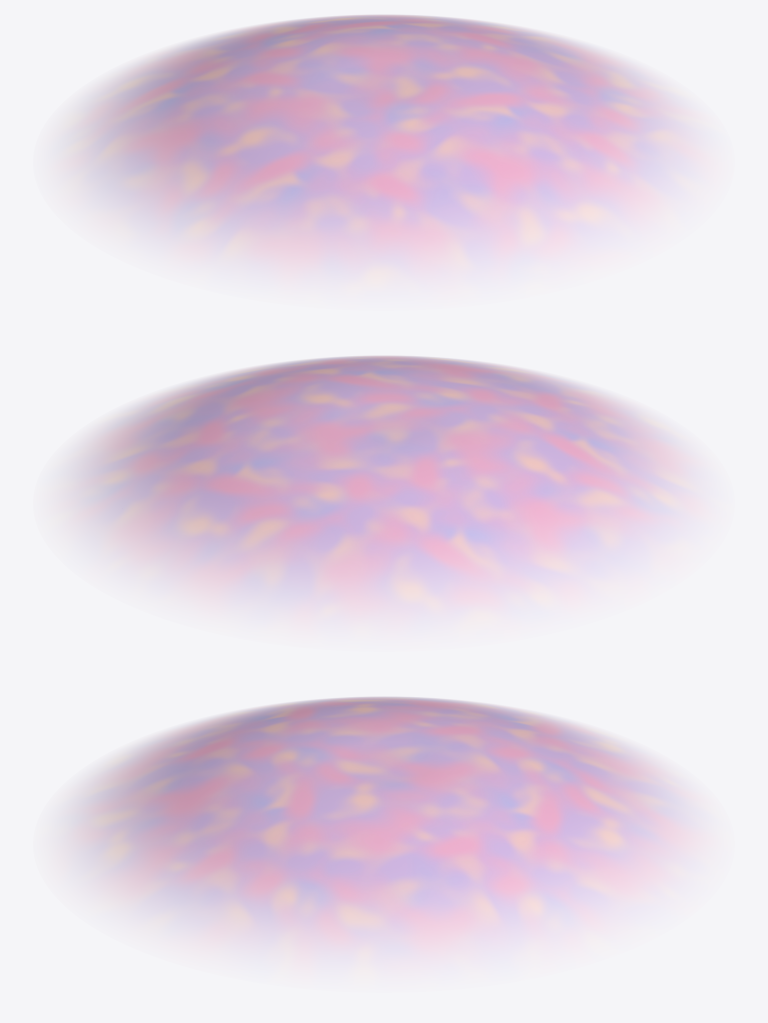
The model's file is piso_reflejo_pastel.glb.
3 renders of one model, top to bottom at view 1: azimuth 30°, elevation 25°; view 2: azimuth 150°, elevation 25°; view 3: azimuth 270°, elevation 25°, orthographic.
Parts seen in each view (by area): view 1: piso_curvo; view 2: piso_curvo; view 3: piso_curvo.
Part boxes in pixels (bbox=[...]): piso_curvo: bbox=[59, 14, 708, 288]; piso_curvo: bbox=[59, 355, 708, 629]; piso_curvo: bbox=[59, 696, 708, 970].
Size of the model in its own units: 120 by 16 by 120.
Materials: 1 (1 with a texture image).
